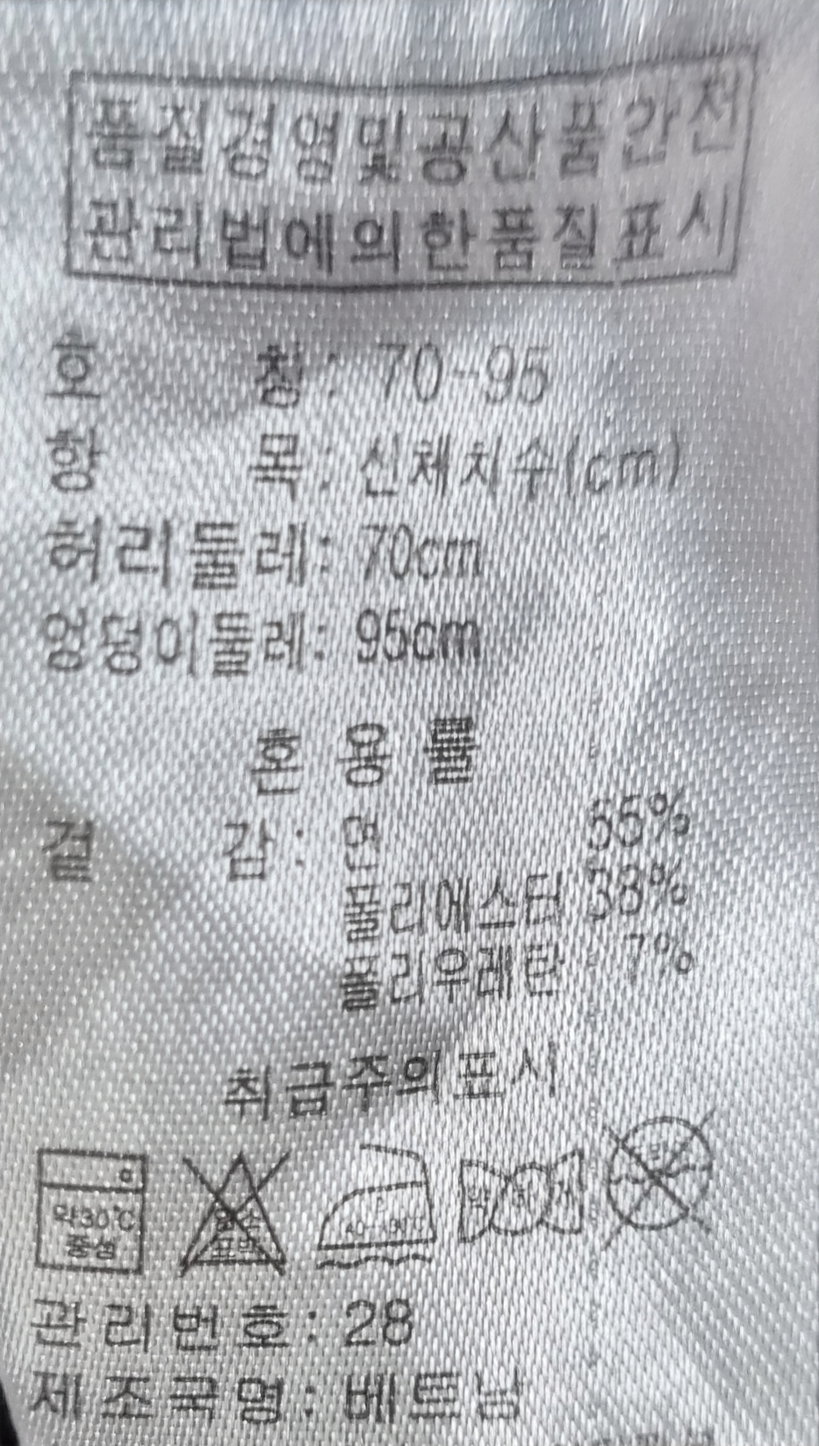KR_gentle_wring: (441, 1132, 591, 1251)
KR_iron_medium_temp_with_cloth: (295, 1125, 441, 1274)
KR_no_chlorine_bleach: (165, 1137, 297, 1282)
KR_no_dry_clean: (598, 1096, 723, 1245)
KR_wash_warm_30_neutral: (22, 1131, 156, 1286)
